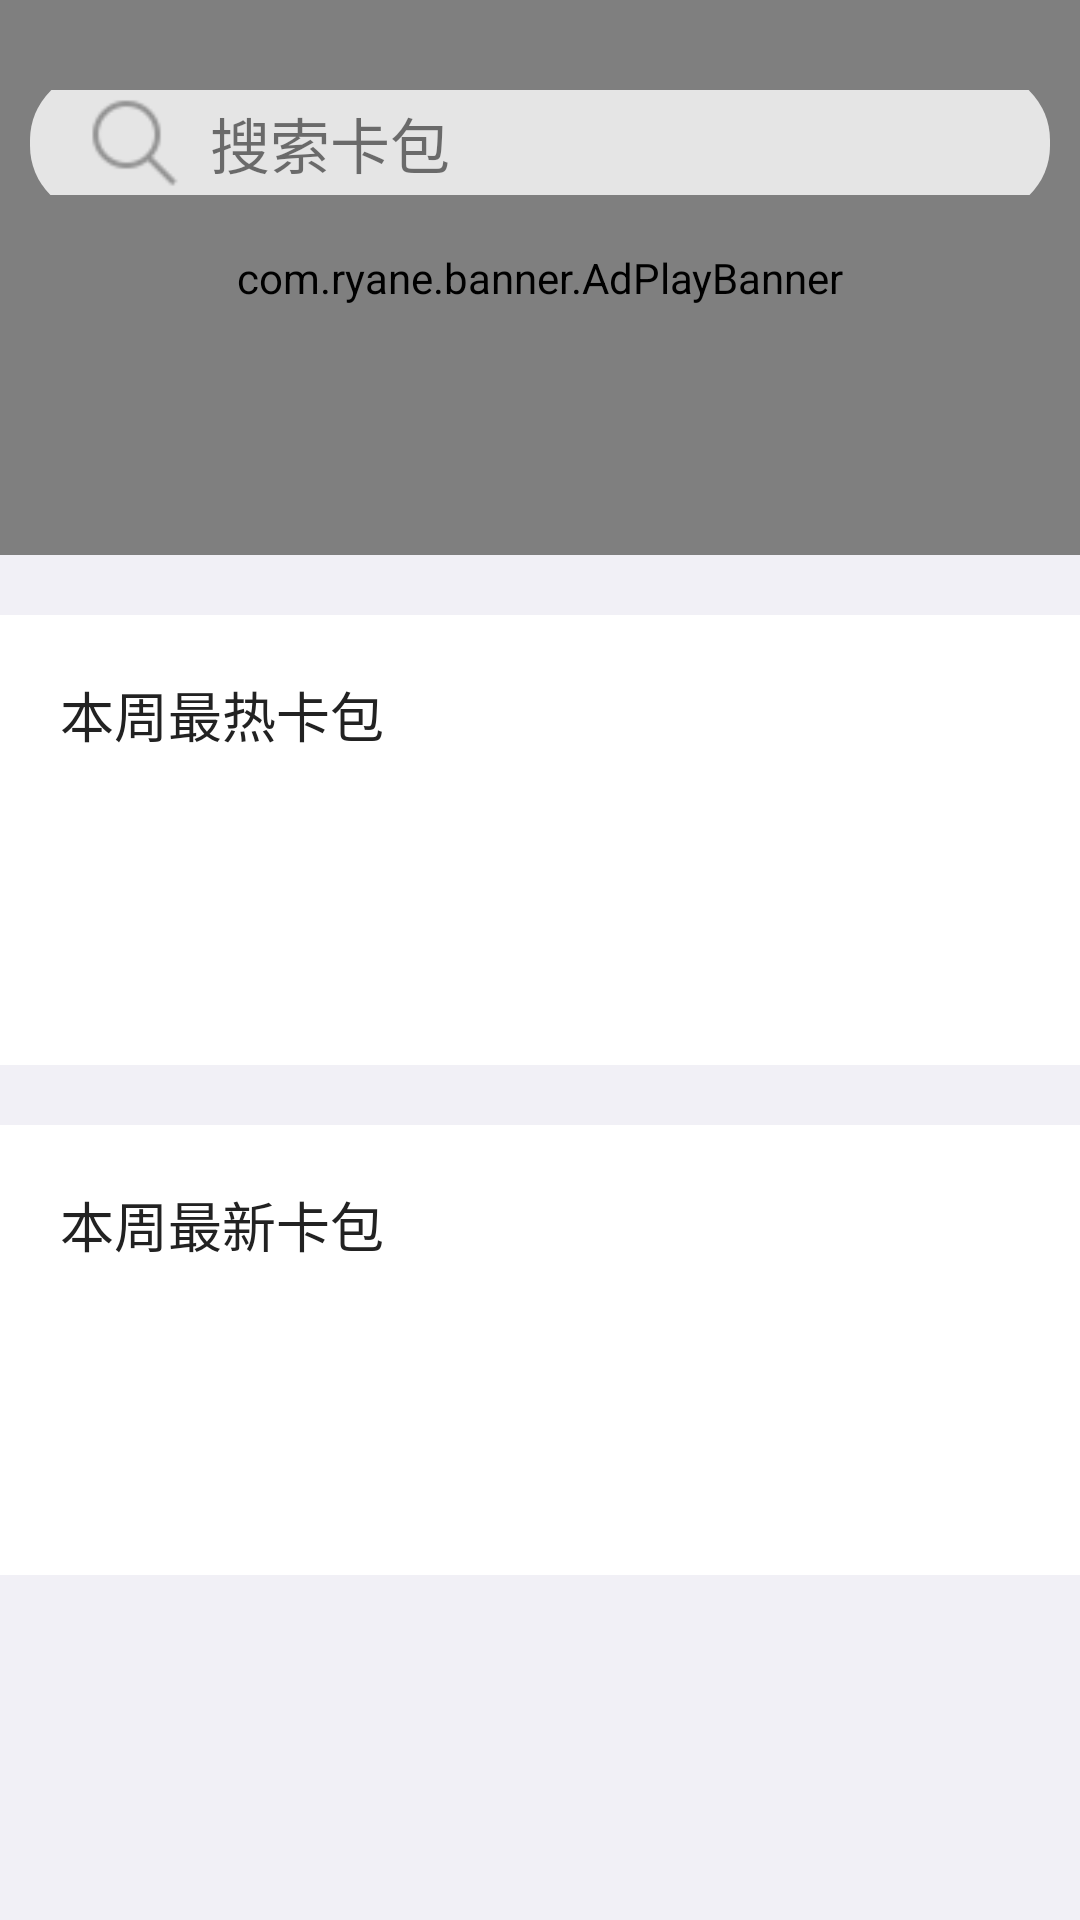

Screen size 1080x1920. Icon name, then its box in pixels as [x1, y1, x2, y2]:
search: [92, 100, 176, 185]
